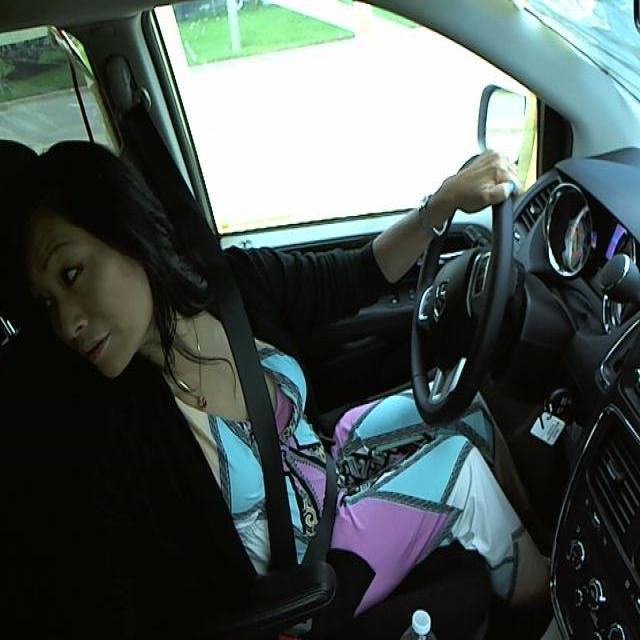seatbelt: (188, 247, 347, 569)
